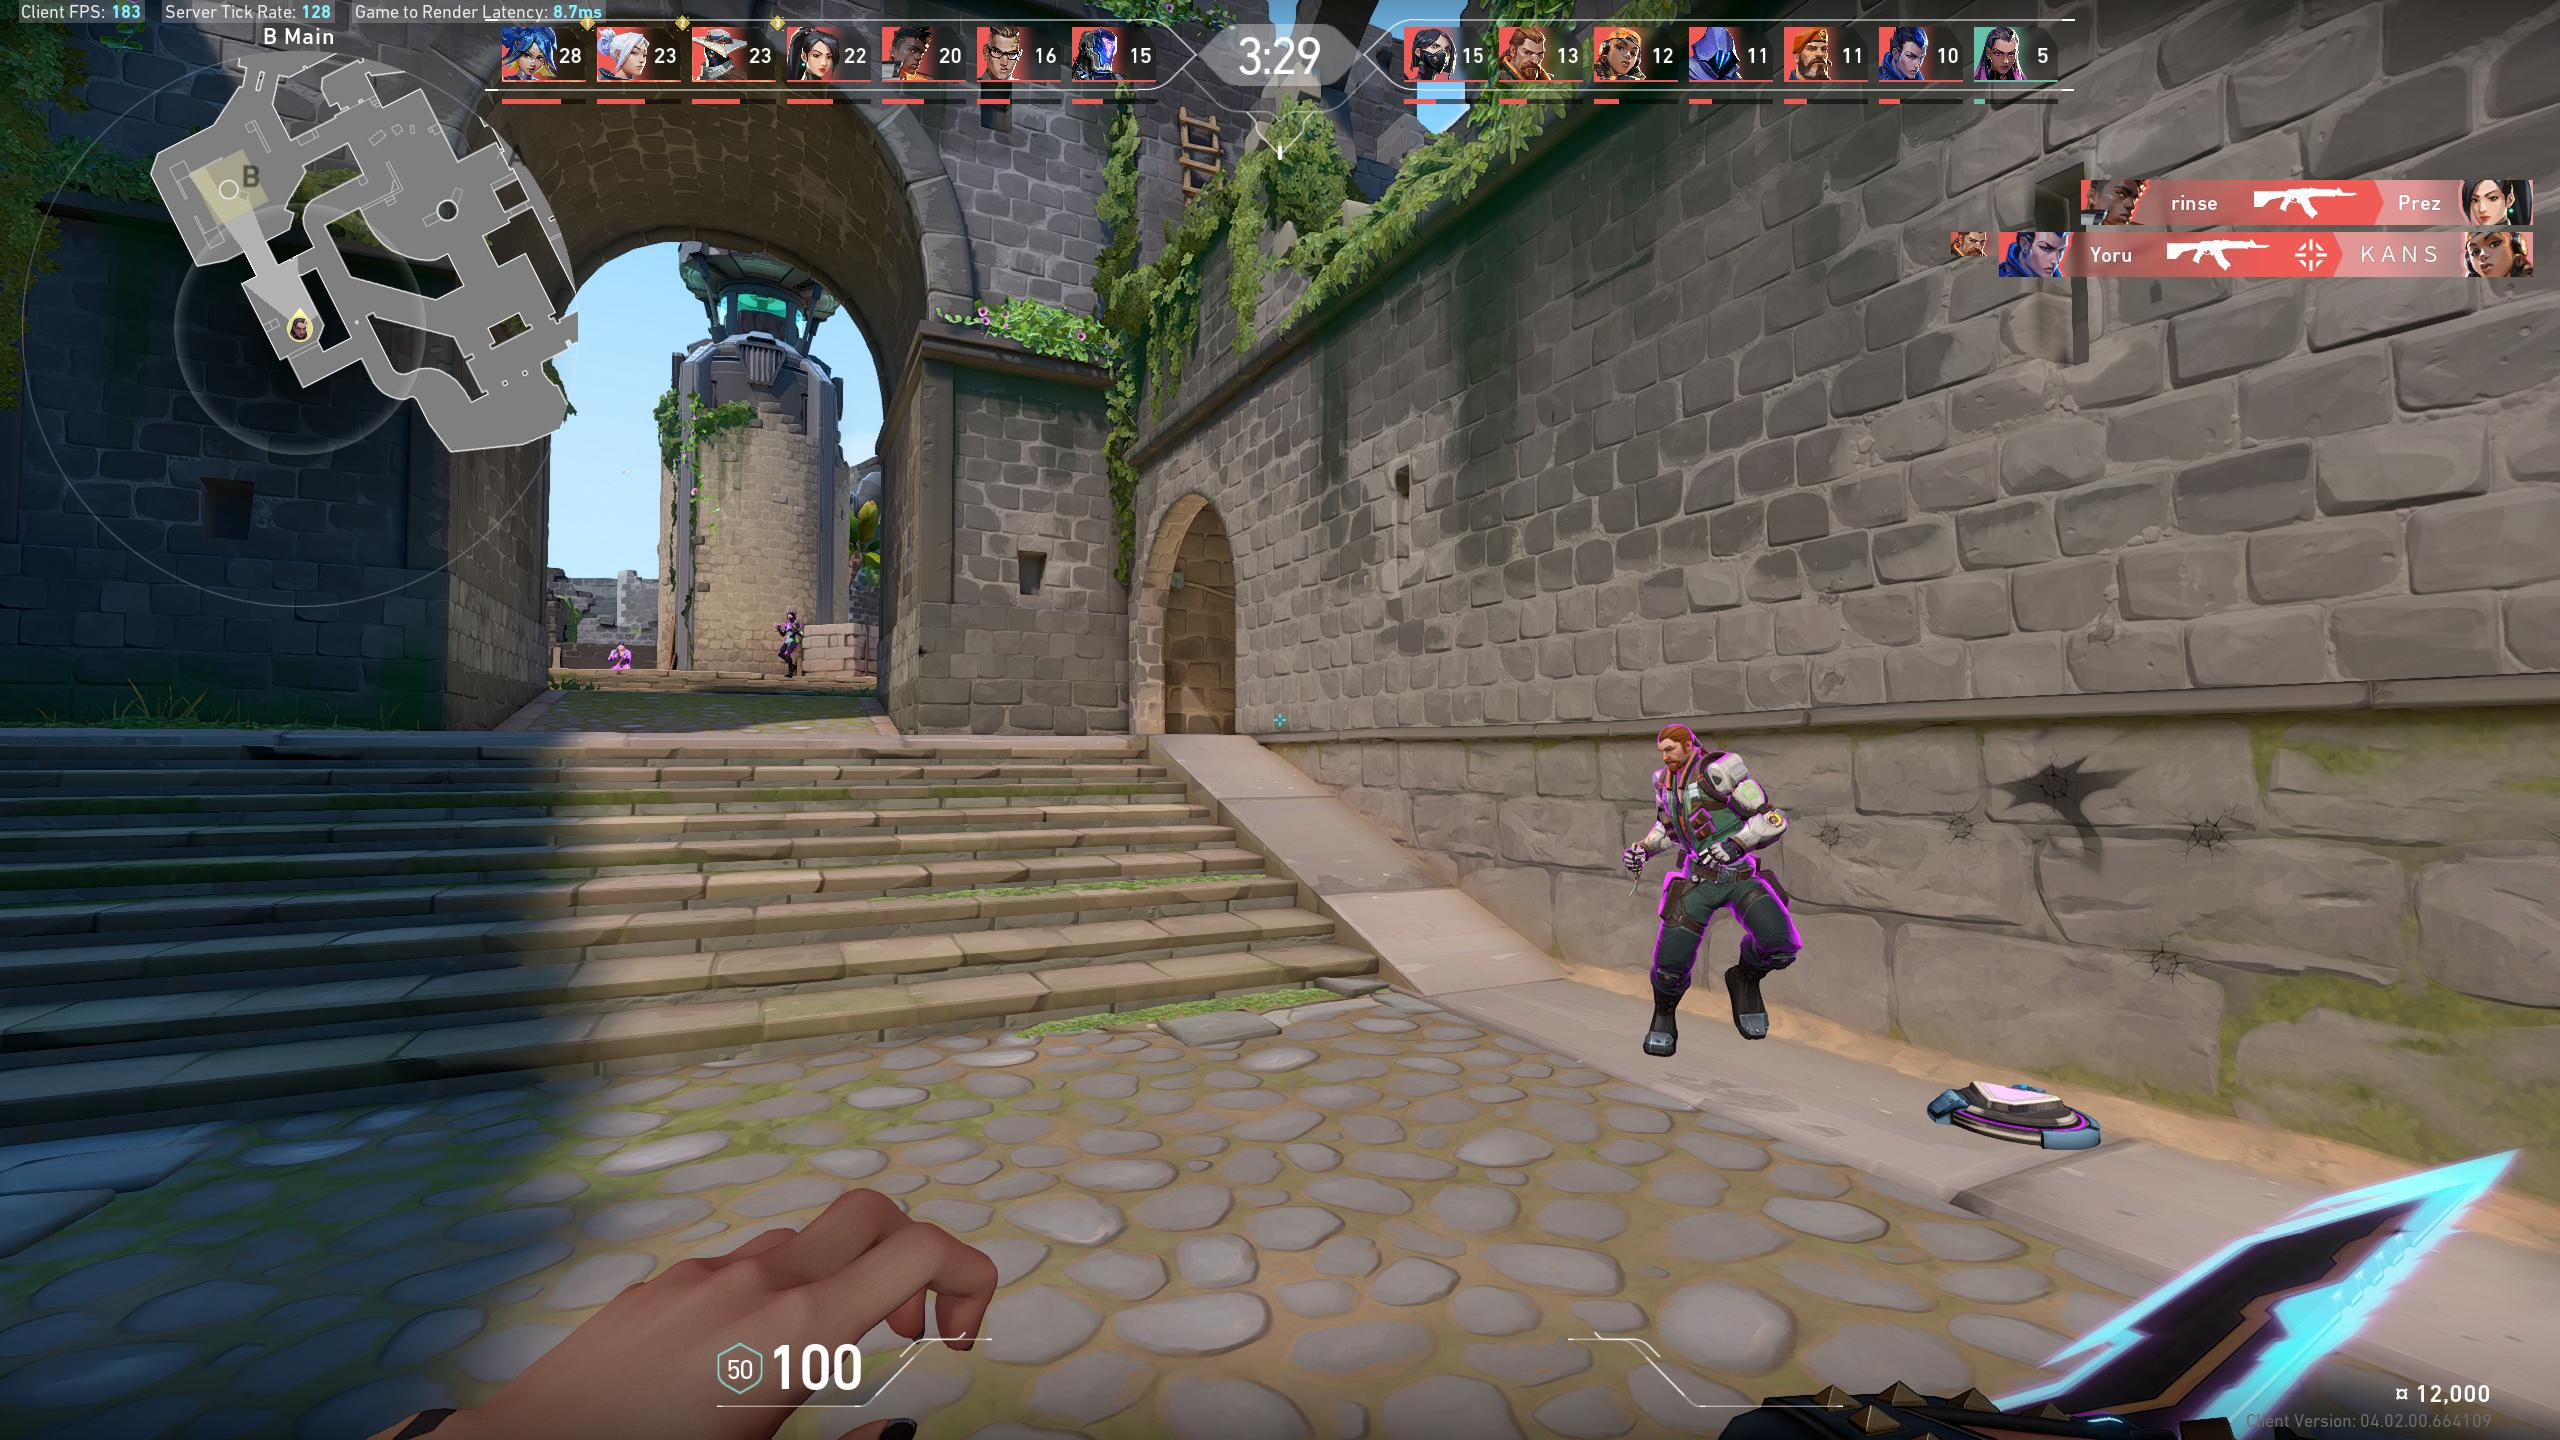enemyBody: (1676, 772, 1735, 835)
enemyHead: (1662, 737, 1691, 760)
